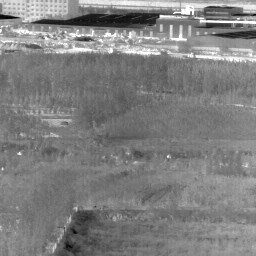aircraft: (90, 40, 92, 42)
